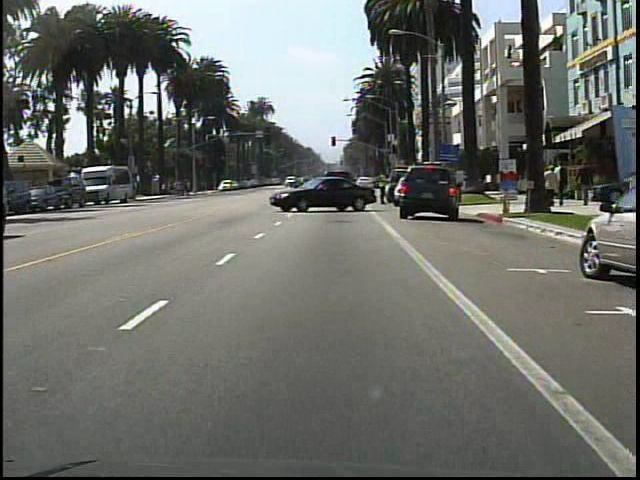person: (575, 155, 597, 207), (553, 159, 572, 211), (376, 170, 393, 210), (546, 164, 557, 211)
